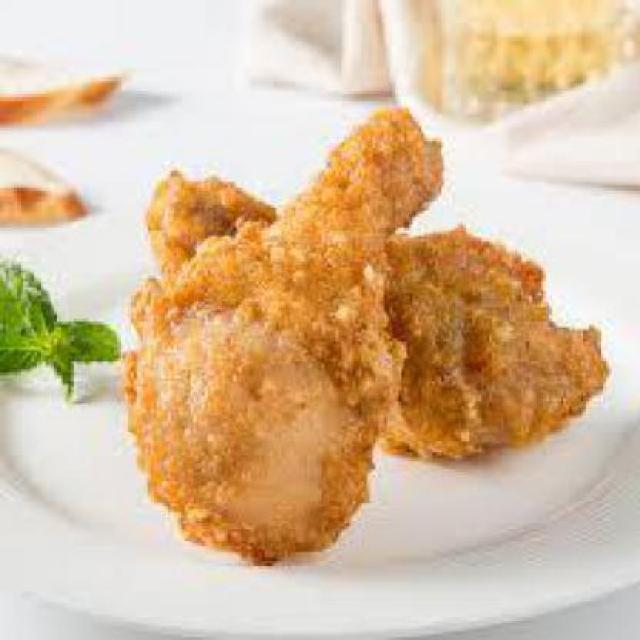Chicken -Fried Chicken-: (143, 143, 612, 465), (128, 94, 438, 560)
